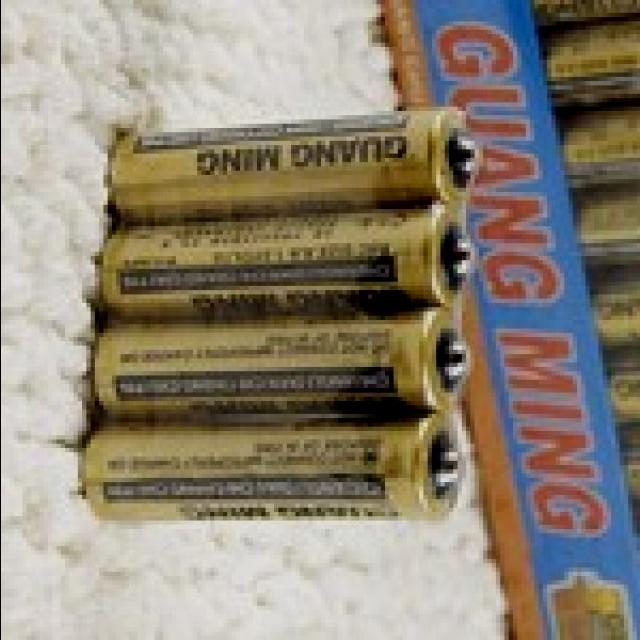AA: (102, 101, 486, 225), (96, 312, 484, 422), (84, 425, 474, 533), (97, 223, 479, 314)
